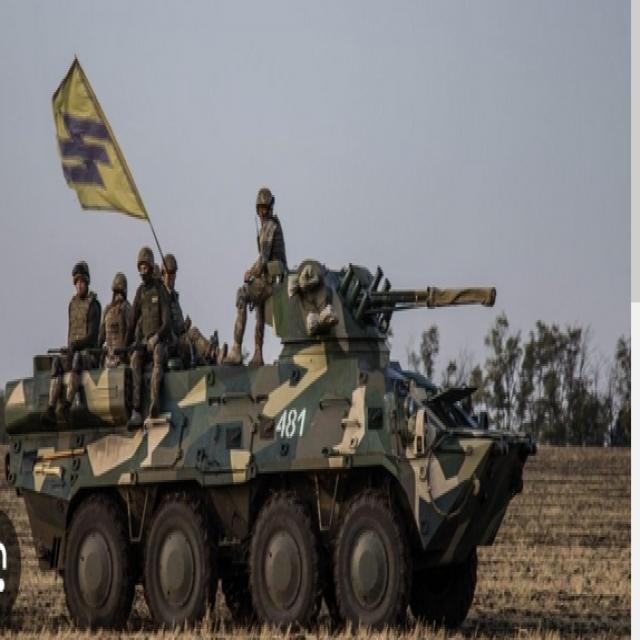MIL_APC: (14, 271, 536, 640)
